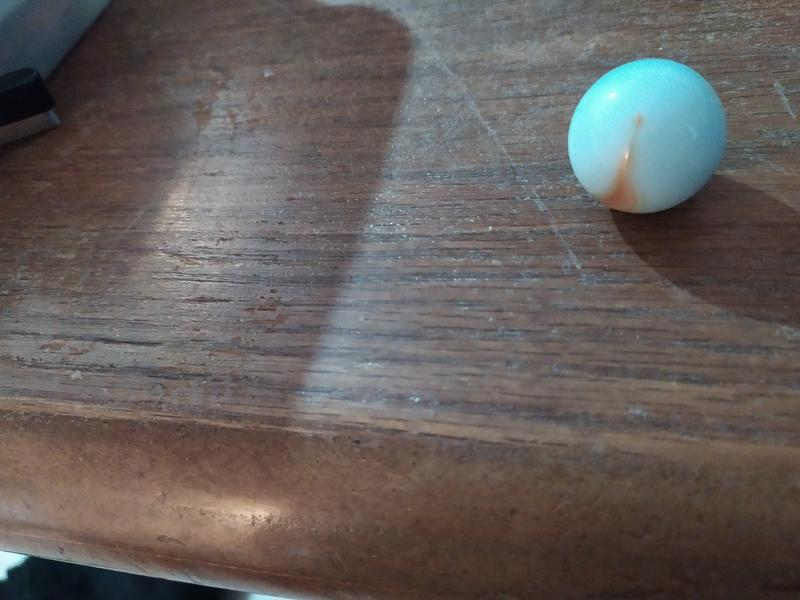Warning: (564, 55, 734, 218)
